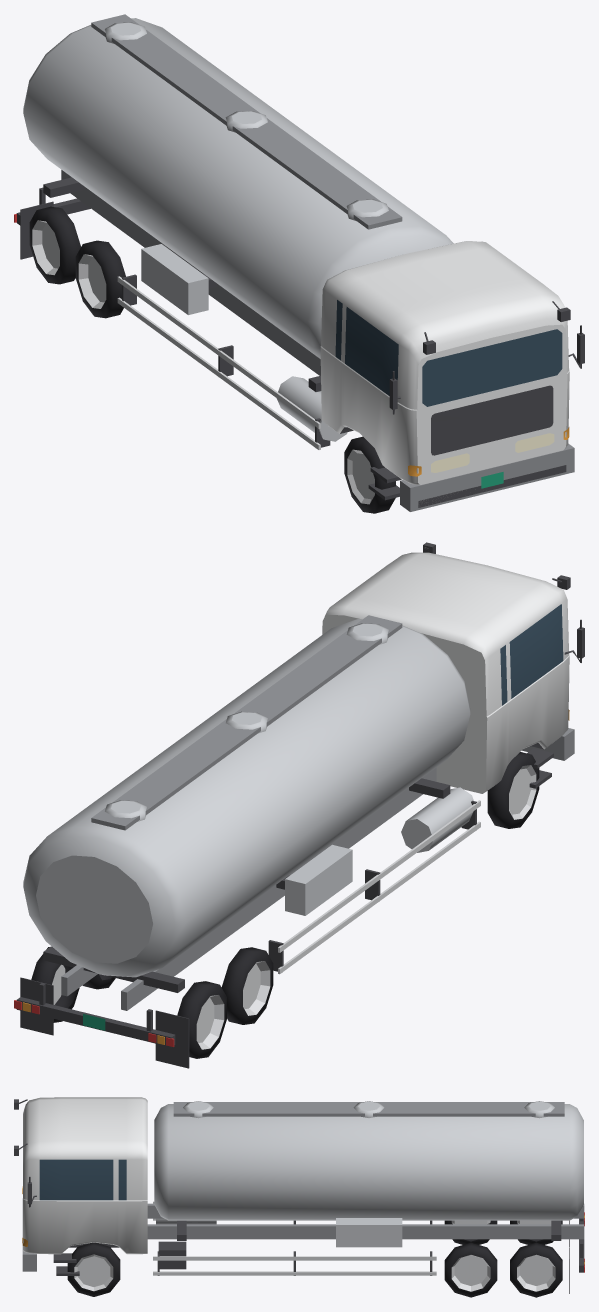
The model's file is site_tanker.fbx.
3 renders of one model, top to bottom at view 1: azimuth 30°, elevation 25°; view 2: azimuth 150°, elevation 25°; view 3: azimuth 270°, elevation 25°, orthographic. The views are drawn at different scales.
Parts seen in each view (by area): view 1: a1019/0/site_tanker; view 2: a1019/0/site_tanker; view 3: a1019/0/site_tanker.
Part boxes in pixels (x1,y1,x2,y2): a1019/0/site_tanker: [14, 14, 584, 513]; a1019/0/site_tanker: [14, 542, 584, 1068]; a1019/0/site_tanker: [14, 1097, 584, 1297].
Size of the model in its own units: 2.83 by 3.27 by 10.32.
